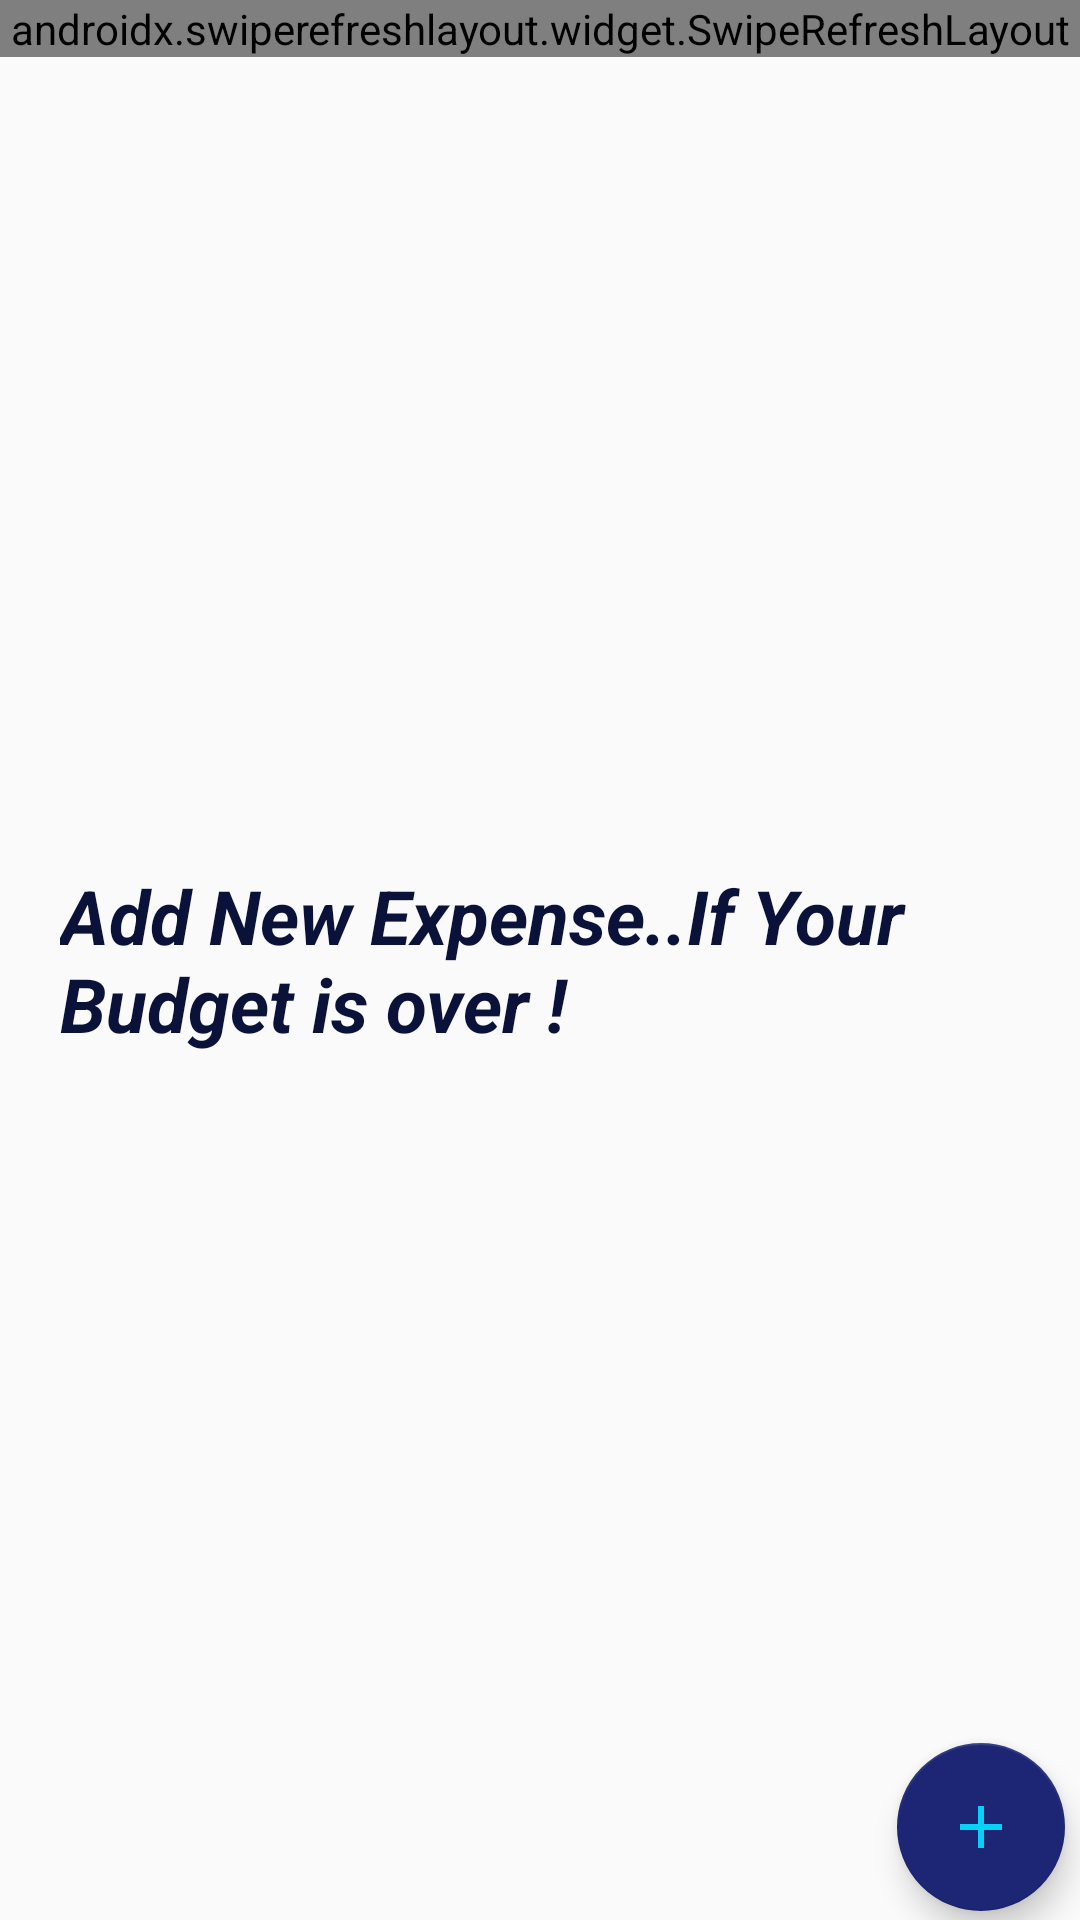

Icon bounding boxes for this 1080*1920 phone screenshot, format (x1, y1, x2, y2):
add: (897, 1743, 1065, 1911)
